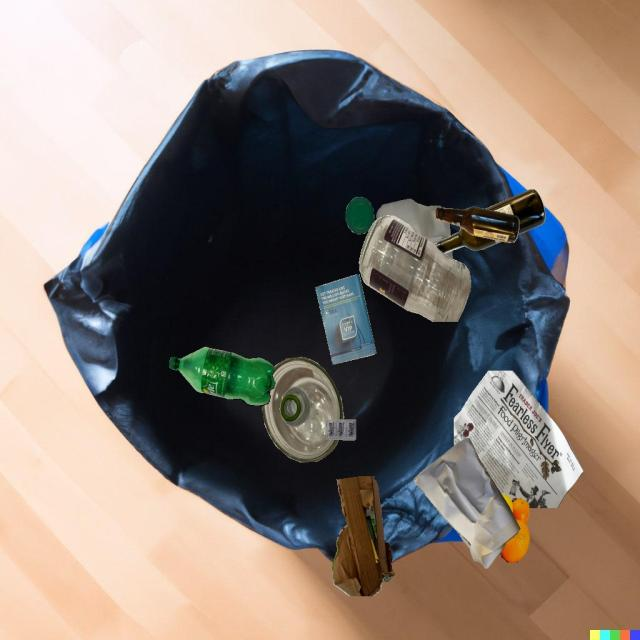biowaste: (501, 494, 530, 562)
cardboard: (332, 476, 395, 597)
glass: (359, 215, 471, 322), (262, 357, 344, 462), (435, 206, 519, 243), (485, 189, 546, 235), (436, 227, 502, 254), (280, 386, 311, 427)
paper: (454, 371, 583, 508), (414, 438, 520, 568), (315, 275, 376, 365)
plastic: (168, 347, 275, 406), (376, 199, 451, 247), (346, 197, 374, 234), (326, 420, 356, 440)
